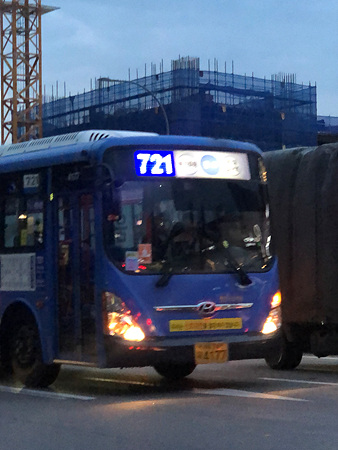bnum: (137, 151, 175, 175)
